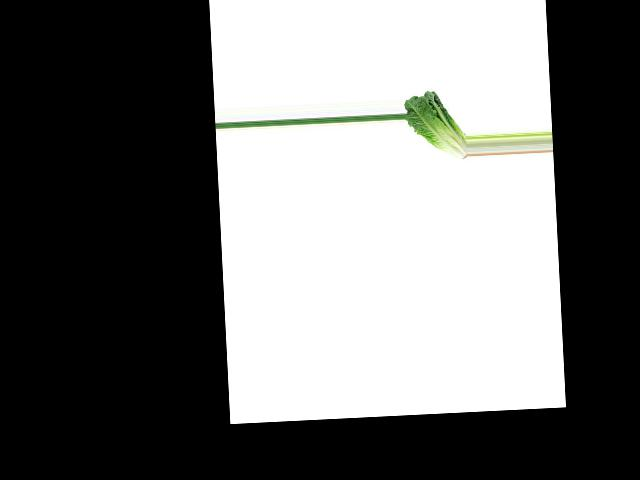lettuce: (404, 88, 467, 162)
